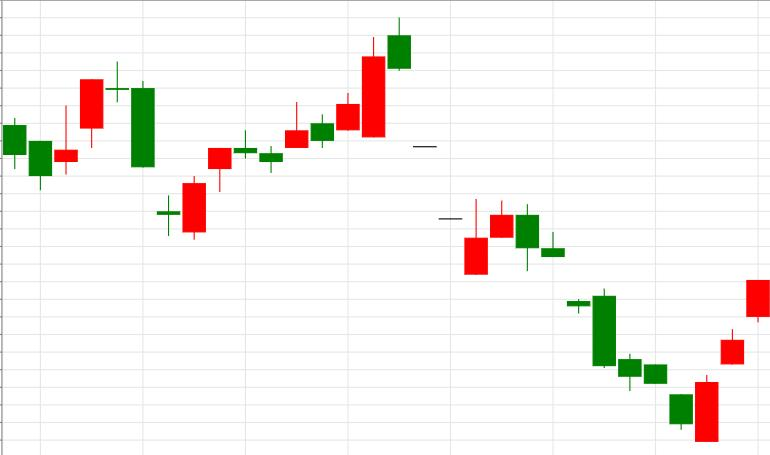bullish_engulfing_rise: (516, 205, 718, 443)
